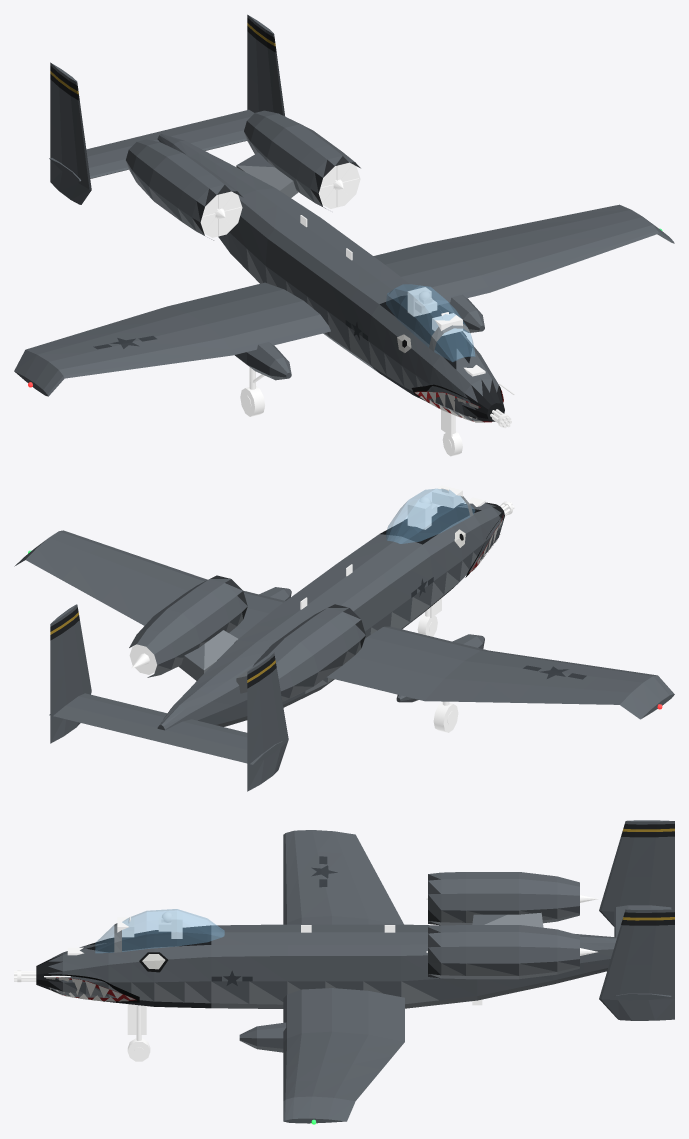
3 renders of one model, top to bottom at view 1: azimuth 30°, elevation 25°; view 2: azimuth 150°, elevation 25°; view 3: azimuth 270°, elevation 25°, orthographic. The views are drawn at different scales.
Parts seen in each view (by area): view 1: part-0001, part-0000, part-0005, part-0006, part-0003, part-0002, part-0004, part-0023, part-0009, part-0008, part-0015, part-0033 (+3 smaller); view 2: part-0001, part-0000, part-0006, part-0002, part-0005, part-0003, part-0004, part-0023, part-0008, part-0017, part-0067, part-0021 (+1 smaller); view 3: part-0000, part-0001, part-0006, part-0005, part-0004, part-0003, part-0023, part-0015, part-0010, part-0007, part-0002, part-0076.
Part boxes in pixels (x1=…): part-0001: x1=14, y1=204, x2=674, y2=396; part-0000: x1=157, y1=133, x2=504, y2=421; part-0005: x1=126, y1=139, x2=242, y2=240; part-0006: x1=244, y1=110, x2=360, y2=208; part-0003: x1=50, y1=62, x2=91, y2=204; part-0002: x1=49, y1=109, x2=254, y2=181; part-0004: x1=247, y1=14, x2=285, y2=116; part-0023: x1=386, y1=284, x2=466, y2=347; part-0009: x1=234, y1=342, x2=291, y2=380; part-0008: x1=236, y1=152, x2=298, y2=197; part-0015: x1=397, y1=331, x2=503, y2=422; part-0033: x1=200, y1=191, x2=242, y2=237; part-0001: x1=14, y1=530, x2=674, y2=719; part-0000: x1=157, y1=502, x2=504, y2=730; part-0006: x1=129, y1=575, x2=247, y2=677; part-0002: x1=49, y1=693, x2=283, y2=764; part-0005: x1=253, y1=604, x2=365, y2=701; part-0003: x1=247, y1=652, x2=288, y2=791; part-0004: x1=50, y1=604, x2=91, y2=743; part-0023: x1=386, y1=488, x2=469, y2=543; part-0008: x1=178, y1=630, x2=237, y2=680; part-0017: x1=407, y1=500, x2=431, y2=529; part-0067: x1=433, y1=702, x2=458, y2=732; part-0021: x1=432, y1=485, x2=462, y2=508; part-0000: x1=36, y1=924, x2=616, y2=1008; part-0001: x1=283, y1=830, x2=404, y2=1123; part-0006: x1=428, y1=925, x2=579, y2=979; part-0005: x1=428, y1=872, x2=579, y2=925; part-0004: x1=599, y1=908, x2=674, y2=1020; part-0003: x1=599, y1=820, x2=674, y2=926; part-0023: x1=122, y1=909, x2=224, y2=951; part-0015: x1=44, y1=952, x2=168, y2=1002; part-0010: x1=239, y1=1022, x2=286, y2=1052; part-0007: x1=472, y1=912, x2=543, y2=927; part-0002: x1=614, y1=905, x2=671, y2=1000; part-0076: x1=127, y1=1004, x2=146, y2=1034.
Bounding box in the file's own units: 17.72 × 5.49 × 17.39.
